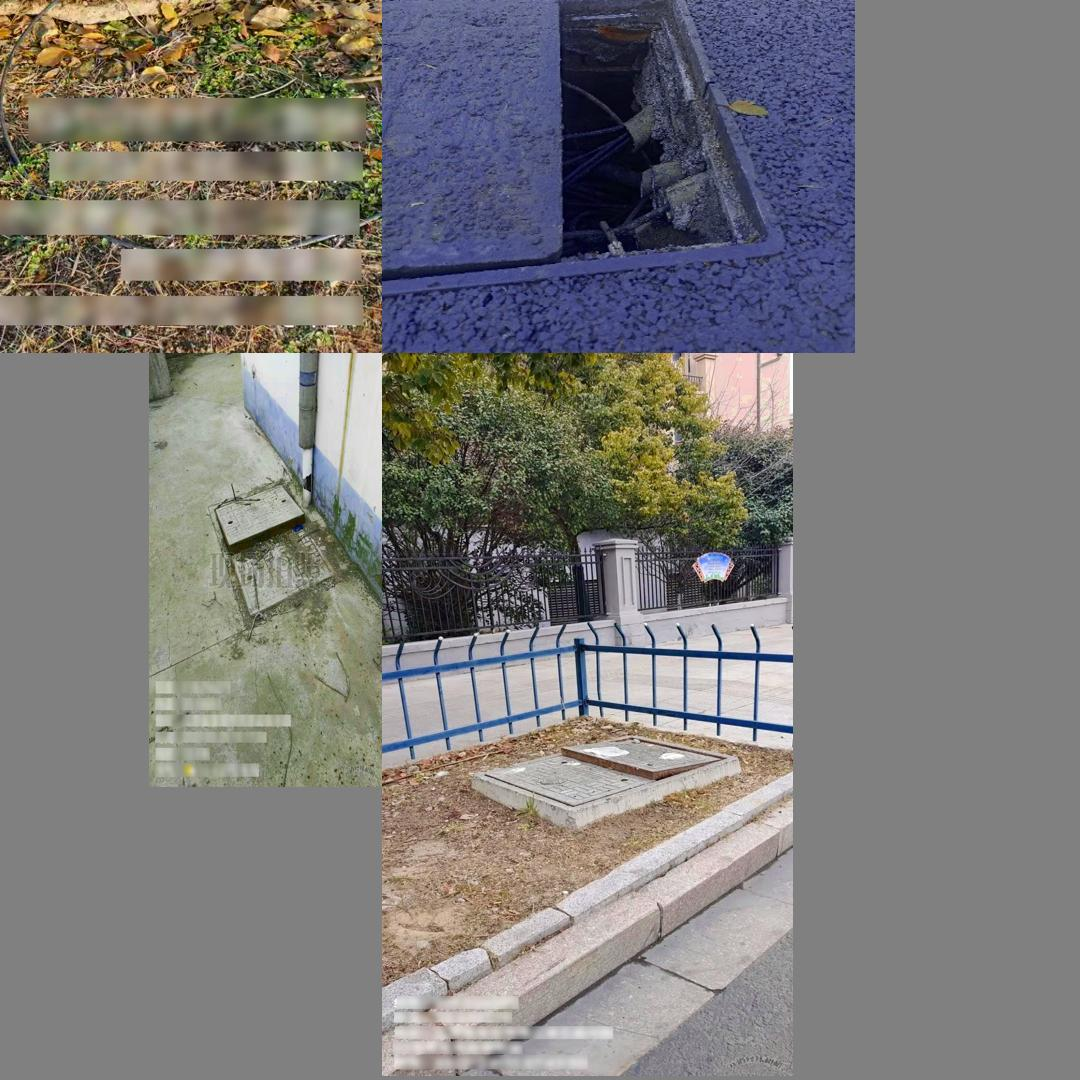uncovered: (384, 0, 781, 296), (469, 735, 740, 825), (211, 497, 329, 590)
